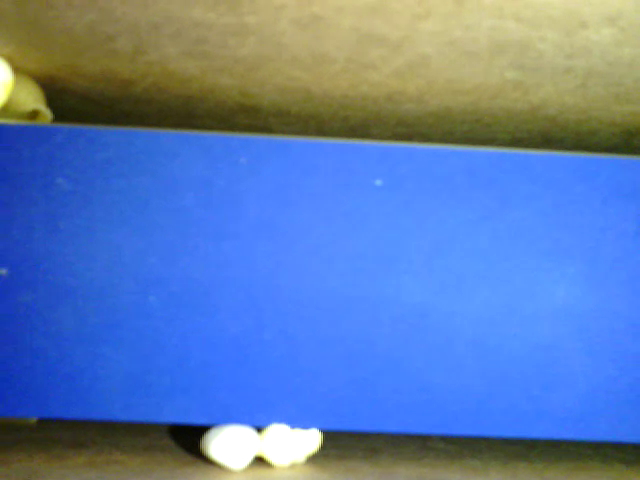shell: (2, 67, 60, 122)
